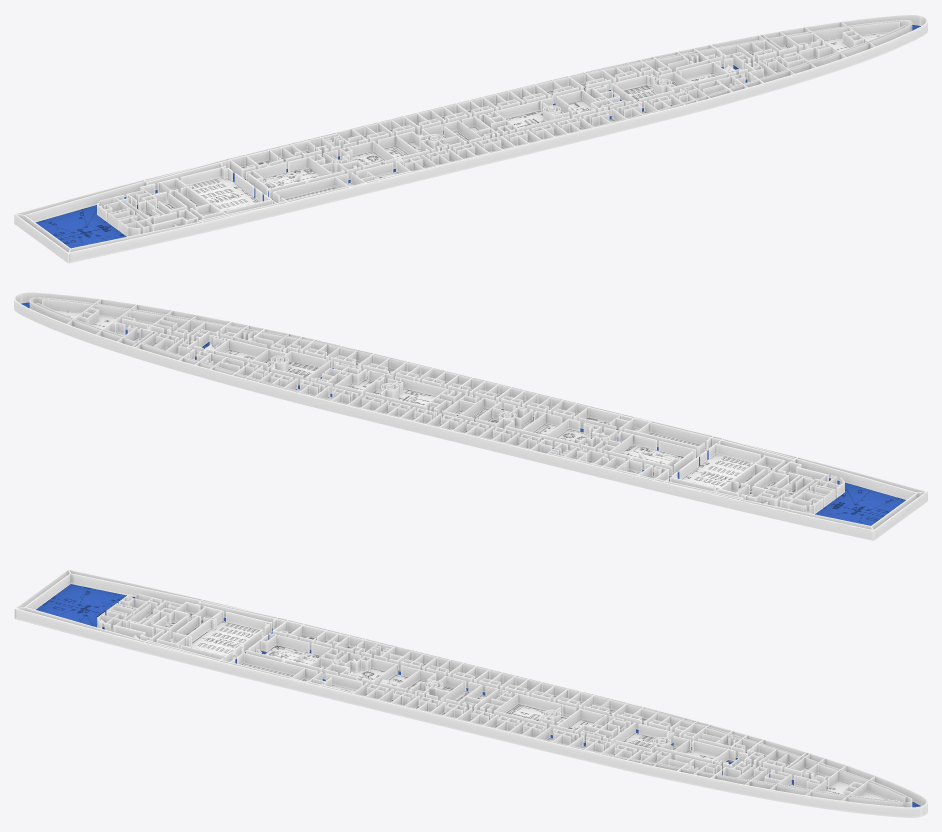
File: shangJiaBan.fbx
The picture shows the model from 3 angles, top to bottom: view 1: azimuth 30°, elevation 25°; view 2: azimuth 150°, elevation 25°; view 3: azimuth 330°, elevation 25°; orthographic projection.
Parts seen in each view (by area): view 1: pCube1; view 2: pCube1; view 3: pCube1.
Part boxes in pixels (box(x1,y1,x2,y2)): pCube1: box(14, 14, 927, 263); pCube1: box(14, 292, 927, 540); pCube1: box(14, 569, 927, 817).
Bounding box in the file's own units: 28555 × 3413 × 308.
